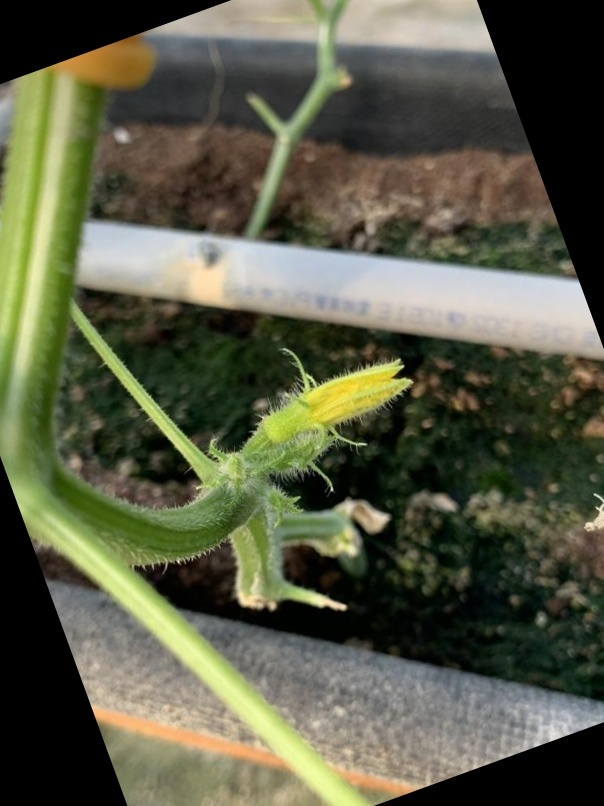bud: (242, 355, 411, 450)
